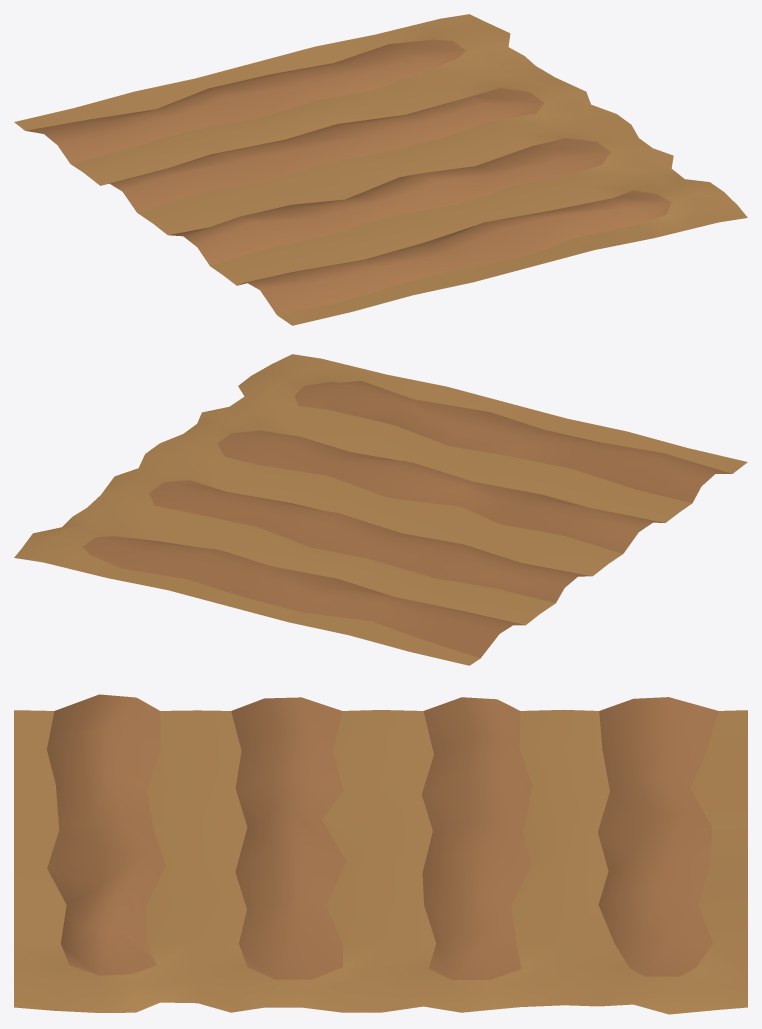
File: Building_model_0_Fieldfrontedge001.fbx
3 renders of one model, top to bottom at view 1: azimuth 30°, elevation 25°; view 2: azimuth 150°, elevation 25°; view 3: azimuth 270°, elevation 25°, orthographic. The views are drawn at different scales.
Parts seen in each view (by area): view 1: Building_model_0_Fieldfrontedge001; view 2: Building_model_0_Fieldfrontedge001; view 3: Building_model_0_Fieldfrontedge001.
Boxes of the visible parts, left/top/right/bottom form: Building_model_0_Fieldfrontedge001: left=14, top=14, right=747, bottom=325; Building_model_0_Fieldfrontedge001: left=14, top=354, right=747, bottom=665; Building_model_0_Fieldfrontedge001: left=14, top=694, right=747, bottom=1014.
Size of the model in its own units: 2.9 by 0.1042 by 3.
